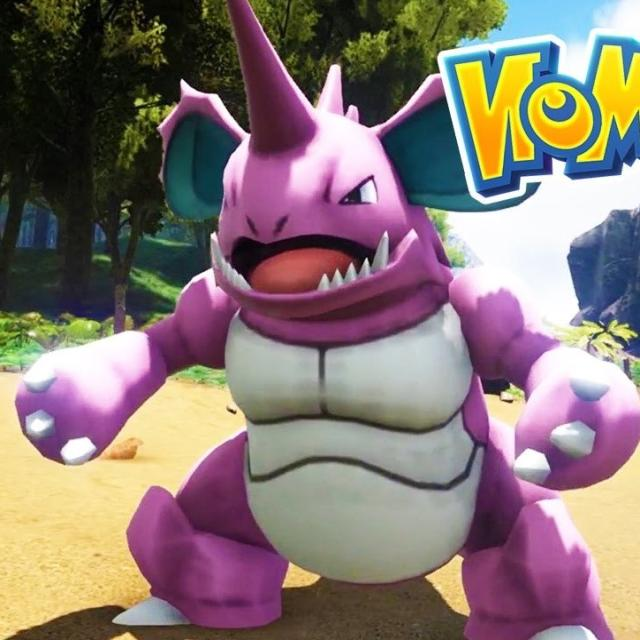Nidoking: (101, 55, 552, 628)
